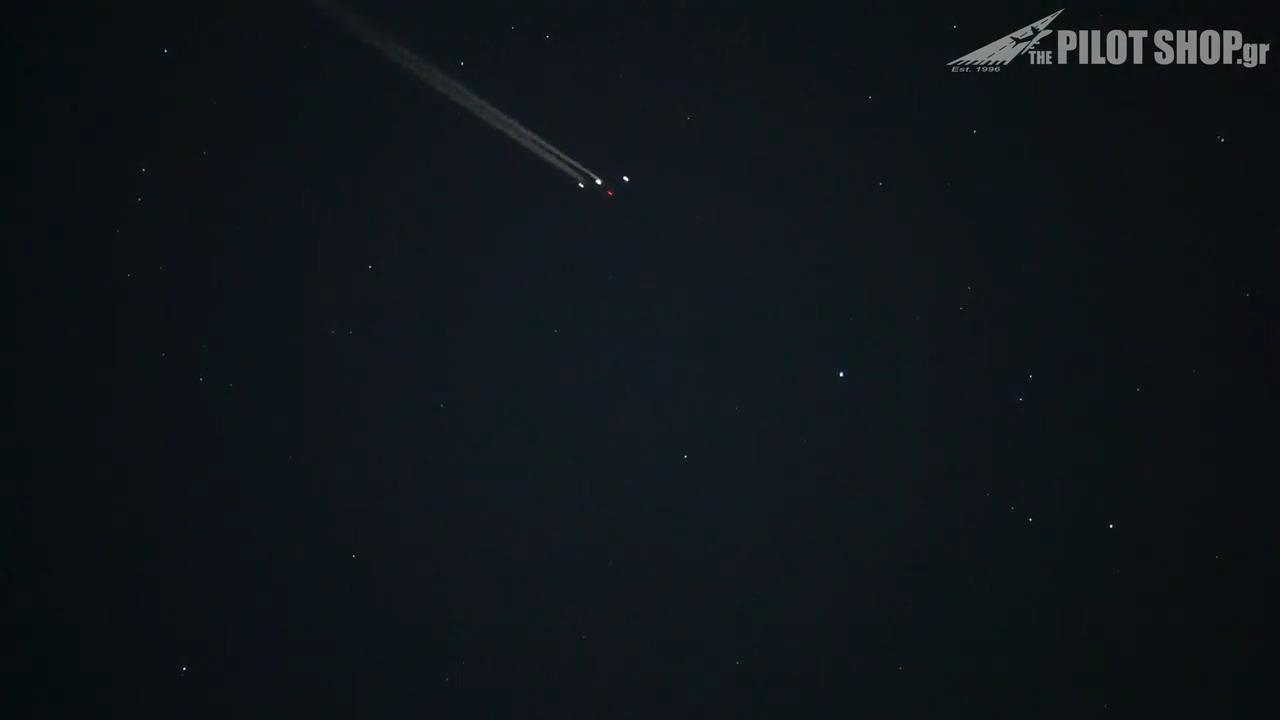Plane: (540, 138, 636, 213)
